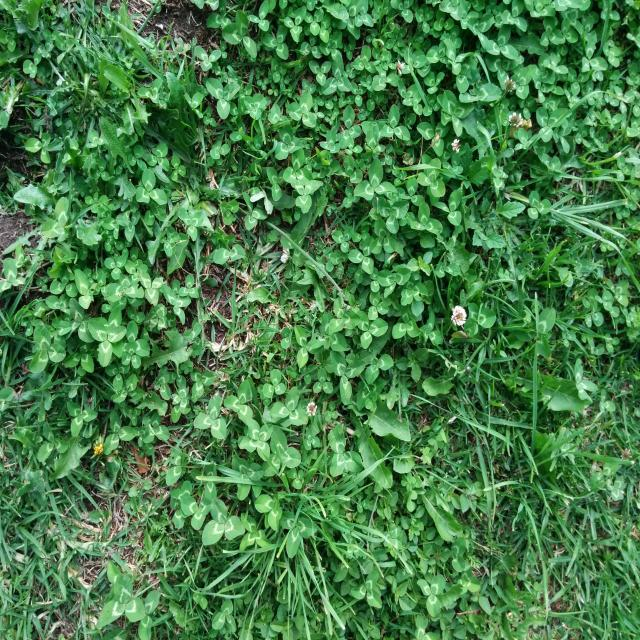Four Leaf Clover: (239, 418, 273, 461)
